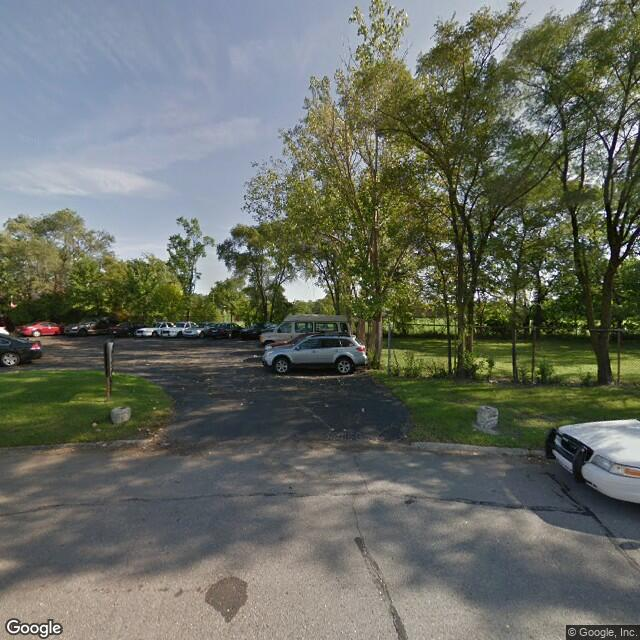litter: (396, 367, 409, 379), (359, 403, 369, 413), (487, 378, 499, 384)
